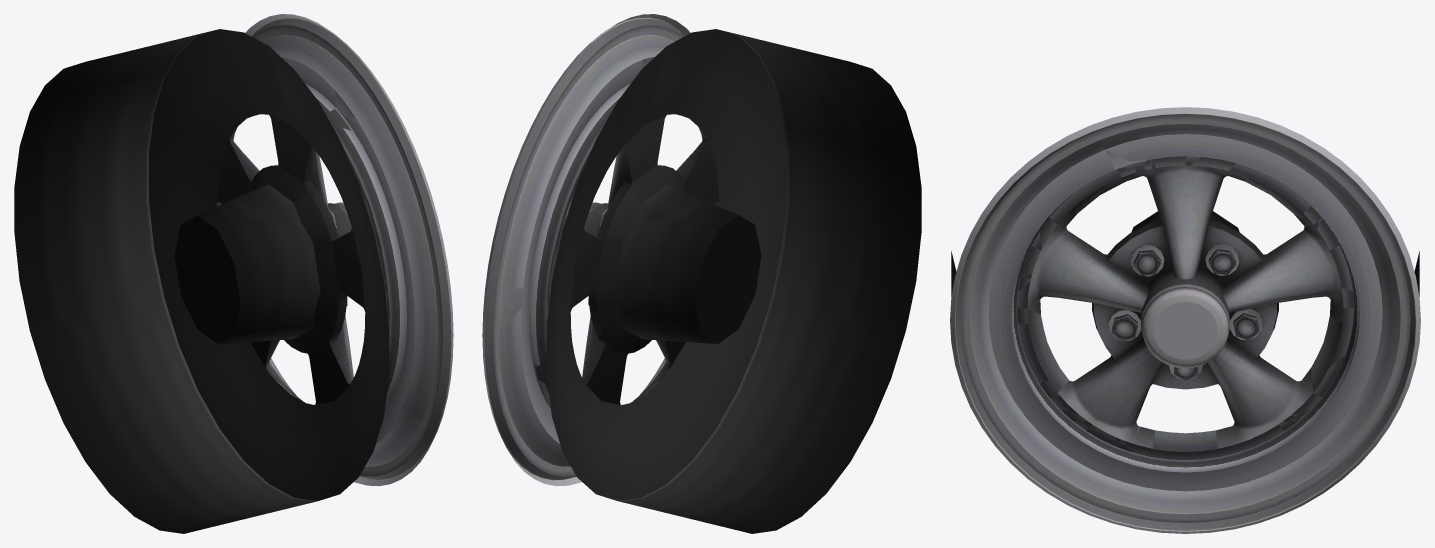
The model's file is wheel18.fbx.
3 renders of one model, left to right at view 1: azimuth 30°, elevation 25°; view 2: azimuth 150°, elevation 25°; view 3: azimuth 270°, elevation 25°, orthographic. The views are drawn at different scales.
Parts seen in each view (by area): view 1: cra_series61_wheel_wheel_inner_rim_, wheel_rim, cra_series61_wheel_wheel_chrome_rim_; view 2: cra_series61_wheel_wheel_inner_rim_, wheel_rim, cra_series61_wheel_wheel_chrome_rim_; view 3: wheel_rim, cra_series61_wheel_wheel_chrome_rim_, cra_series61_wheel_wheel_rim_, cra_series61_wheel_wheel_inner_rim_.
Boxes of the visible parts, x1,y1,x2,y2 form: cra_series61_wheel_wheel_inner_rim_: (14,29,389,533); wheel_rim: (245,14,453,486); cra_series61_wheel_wheel_chrome_rim_: (216,90,450,419); cra_series61_wheel_wheel_inner_rim_: (546,29,921,533); wheel_rim: (482,14,719,486); cra_series61_wheel_wheel_chrome_rim_: (485,14,719,416); wheel_rim: (950,107,1420,533); cra_series61_wheel_wheel_chrome_rim_: (955,133,1415,533); cra_series61_wheel_wheel_rim_: (1153,302,1217,359); cra_series61_wheel_wheel_inner_rim_: (951,211,1419,296).
Size of the model in its own units: 0.2494 by 0.48 by 0.48.
1 material, 1 textured.
